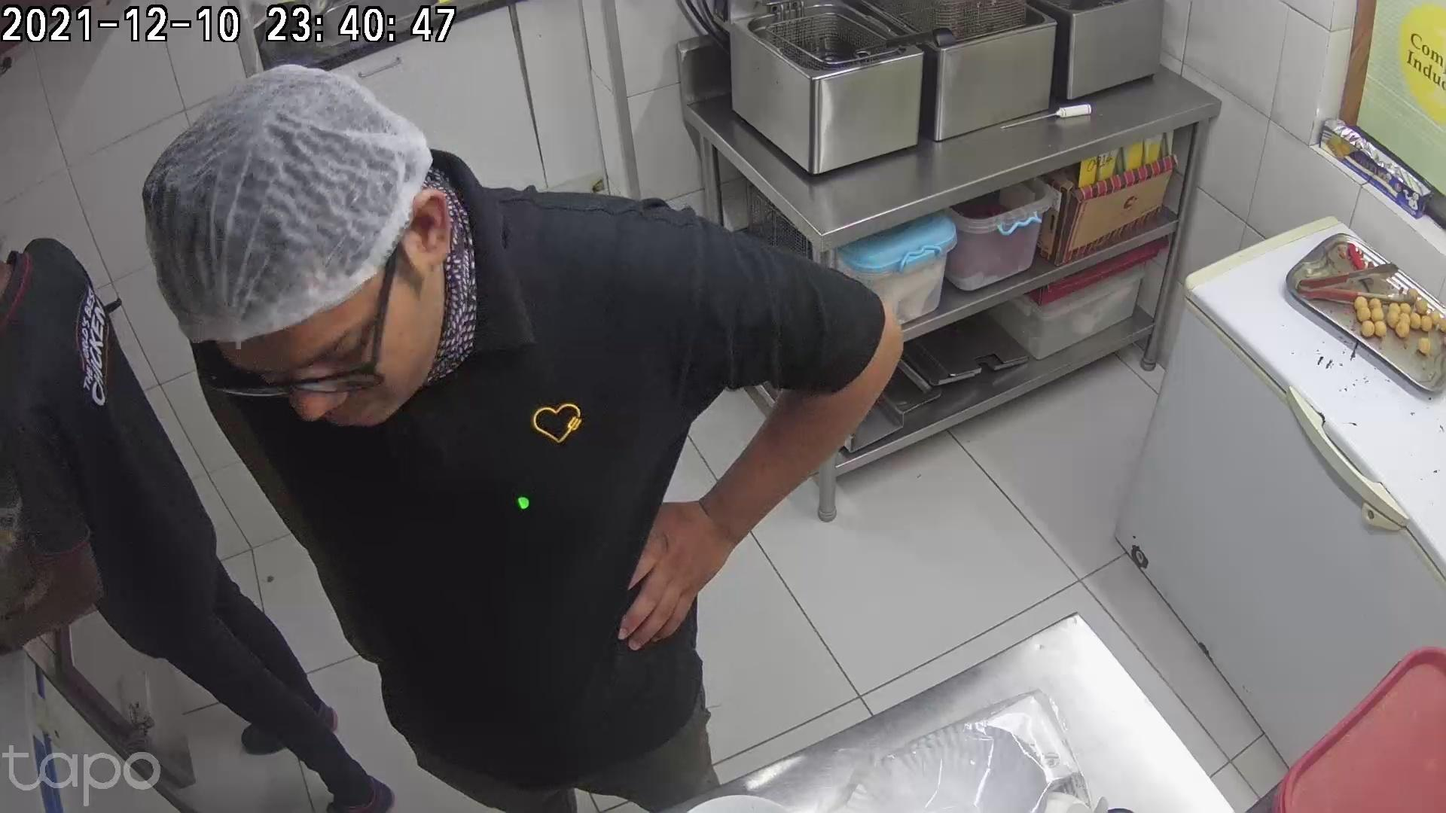no_gloves: (388, 600, 489, 734)
